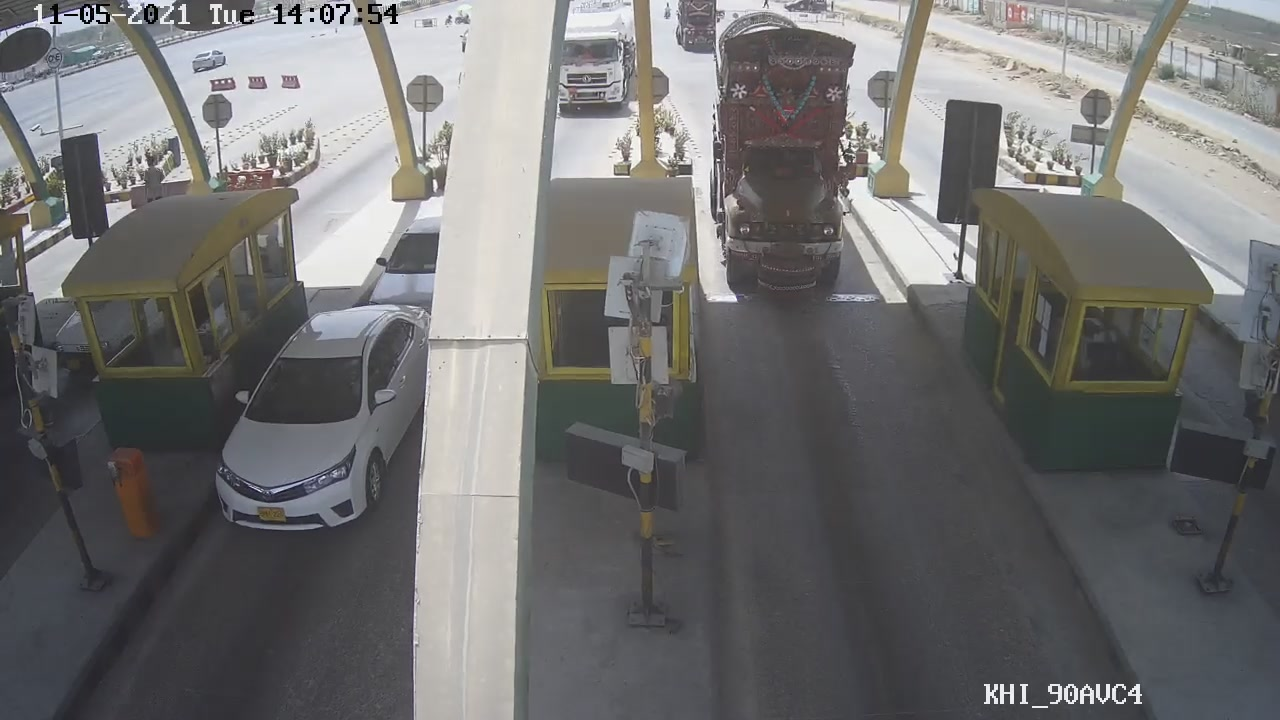F5: (692, 15, 873, 303)
